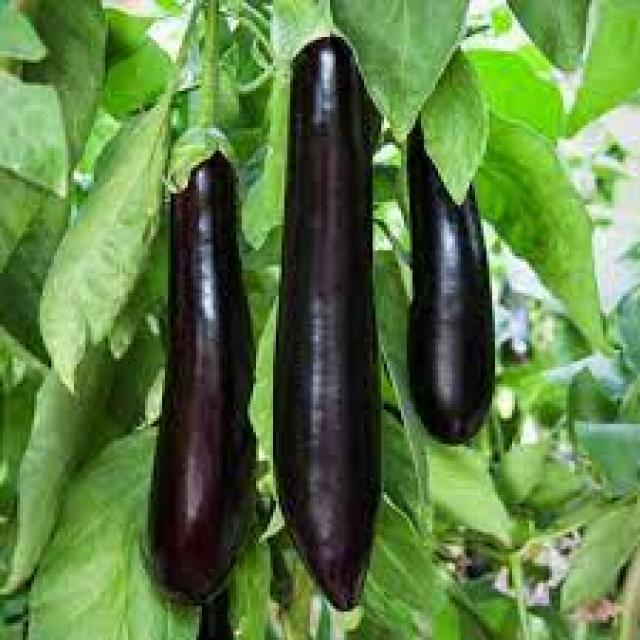eggplant: (273, 23, 381, 603), (145, 122, 245, 600), (398, 105, 492, 444)
